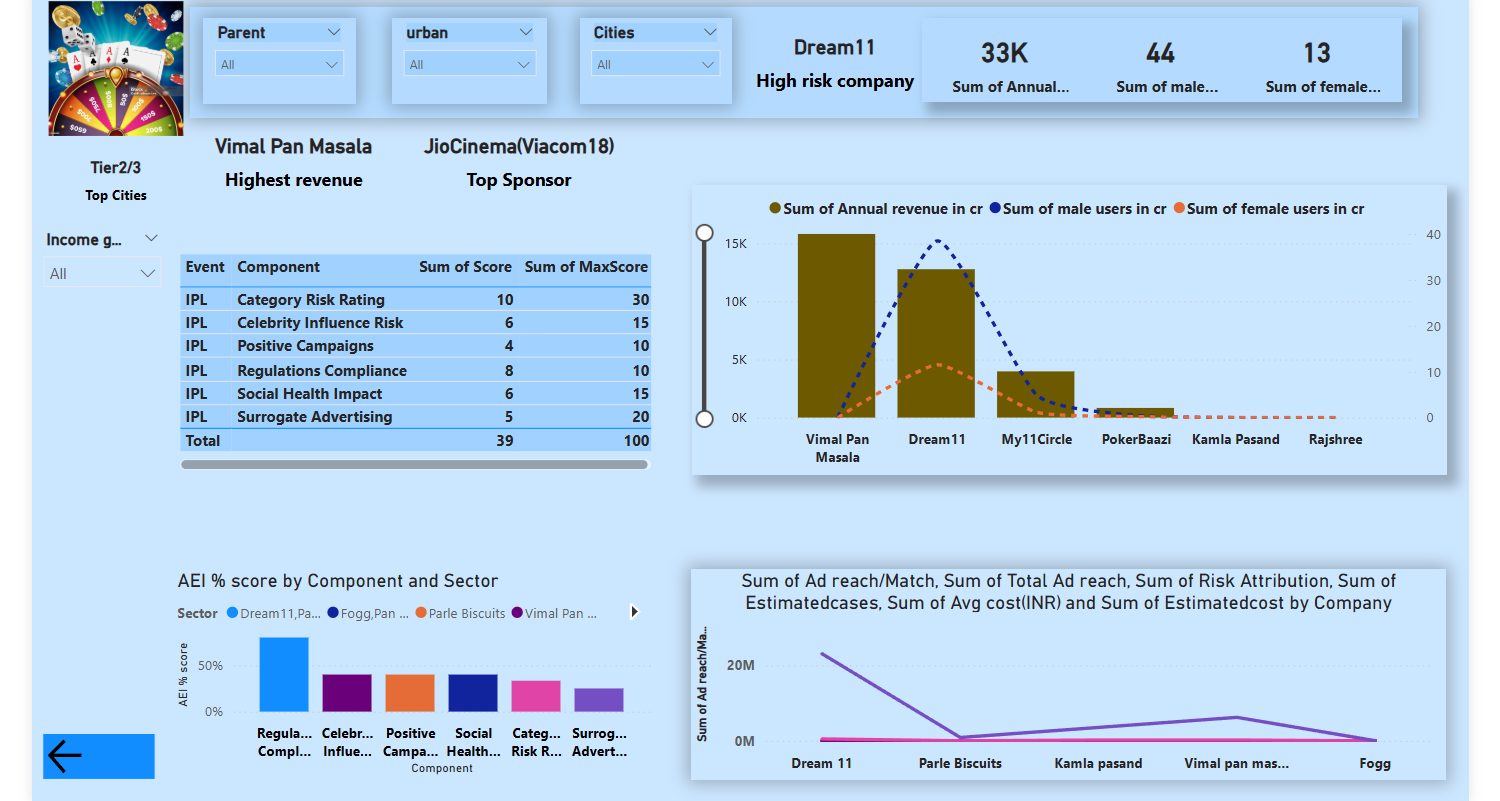

The page's visual inventory and layout, read from the dashboard file:
{"tool":"powerbi","page":{"name":"IPL2","canvas":[1280,720],"ordinal":1},"visuals":[{"type":"image","box":[10,0,130,132.9],"z":0},{"type":"lineStackedColumnComboChart","fields":{"Category":["Merge1.company"],"Y2":["Sum(Merge1.male users in cr)","Sum(Merge1.female users in cr)"],"Y":["Sum(Merge1.latest_annual_revenue)"]},"box":[587.5,170.1,672,258.2],"z":1000},{"type":"lineChart","fields":{"Category":["Product Health costs.Product"],"Y":["Sum(Product Health costs.Ad reach/Match)","Sum(Product Health costs.Total Ad reach)","Sum(Product Health costs.Risk Attribution)","Sum(Product Health costs.Estimatedcases)","Sum(Product Health costs.Avg cost(INR))","Sum(Product Health costs.Estimatedcost)"]},"box":[586.3,511.5,673.2,188.2],"z":2000},{"type":"tableEx","fields":{"Values":["Sheet1 (2).Event","Sheet1 (2).Component","Sum(Sheet1 (2).Score)","Sum(Sheet1 (2).MaxScore)"]},"box":[125.5,226.8,430.7,201.5],"z":3000},{"type":"shape","box":[139.9,10.9,1094.2,98.9],"z":4000},{"type":"slicer","fields":{"Values":["Merge1.parent"]},"box":[152.9,21.6,135.6,76.5],"z":5000},{"type":"slicer","fields":{"Values":["Merge1.urban_population"]},"box":[320.3,21.6,138.5,76.5],"z":6000},{"type":"slicer","fields":{"Values":["Merge1.Cities"]},"box":[487.7,21.6,135.6,76.5],"z":7000},{"type":"lineStackedColumnComboChart","fields":{"Category":["AEI.Component"],"Y":["AEI.AEI % score"],"Series":["AEI.Sector"]},"box":[125,512,431,188],"z":8000},{"type":"card","fields":{"Values":["Key measures.High risk company"]},"box":[639.1,21.6,152.9,75],"z":9000},{"type":"cardVisual","fields":{"Data":["Sum(Merge1.latest_annual_revenue)","Sum(Merge1.male users in cr)","Sum(Merge1.female users in cr)"]},"box":[792.1,21.6,427.1,75],"z":10000},{"type":"card","fields":{"Values":["Key measures.Highest revenue"]},"box":[139.9,111.1,186.1,70.7],"z":11000},{"type":"card","fields":{"Values":["Key measures.Top Sponsor"]},"box":[337.6,111.1,193.3,70.7],"z":12000},{"type":"card","fields":{"Values":["Key measures.Top Cities"]},"box":[10.1,132.7,129.8,62],"z":13000},{"type":"slicer","fields":{"Values":["Merge1.Income group"]},"box":[0,204.9,125.5,66.4],"z":14000},{"type":"actionButton","box":[10.1,659.3,99.6,40.4],"z":14001}]}

Visuals, with their boxes on the page's 1280x720 design canvas (x1, y1, x2, y2). These are canvas units, not pixel positions in the 1500x801 screenshot, which may show the page scaled, cropped or inside an application window:
image: <bbox>10, 0, 140, 133</bbox>
lineStackedColumnComboChart - Merge1.company x Sum(Merge1.male users in cr): <bbox>588, 170, 1260, 428</bbox>
lineChart - Product Health costs.Product x Sum(Product Health costs.Ad reach/Match): <bbox>586, 512, 1260, 700</bbox>
tableEx - Sheet1 (2).Event x Sheet1 (2).Component: <bbox>126, 227, 556, 428</bbox>
shape: <bbox>140, 11, 1234, 110</bbox>
slicer - Merge1.parent: <bbox>153, 22, 288, 98</bbox>
slicer - Merge1.urban_population: <bbox>320, 22, 459, 98</bbox>
slicer - Merge1.Cities: <bbox>488, 22, 623, 98</bbox>
lineStackedColumnComboChart - AEI.Component x AEI.AEI % score: <bbox>125, 512, 556, 700</bbox>
card - Key measures.High risk company: <bbox>639, 22, 792, 97</bbox>
cardVisual - Sum(Merge1.latest_annual_revenue) x Sum(Merge1.male users in cr): <bbox>792, 22, 1219, 97</bbox>
card - Key measures.Highest revenue: <bbox>140, 111, 326, 182</bbox>
card - Key measures.Top Sponsor: <bbox>338, 111, 531, 182</bbox>
card - Key measures.Top Cities: <bbox>10, 133, 140, 195</bbox>
slicer - Merge1.Income group: <bbox>0, 205, 126, 271</bbox>
actionButton: <bbox>10, 659, 110, 700</bbox>
